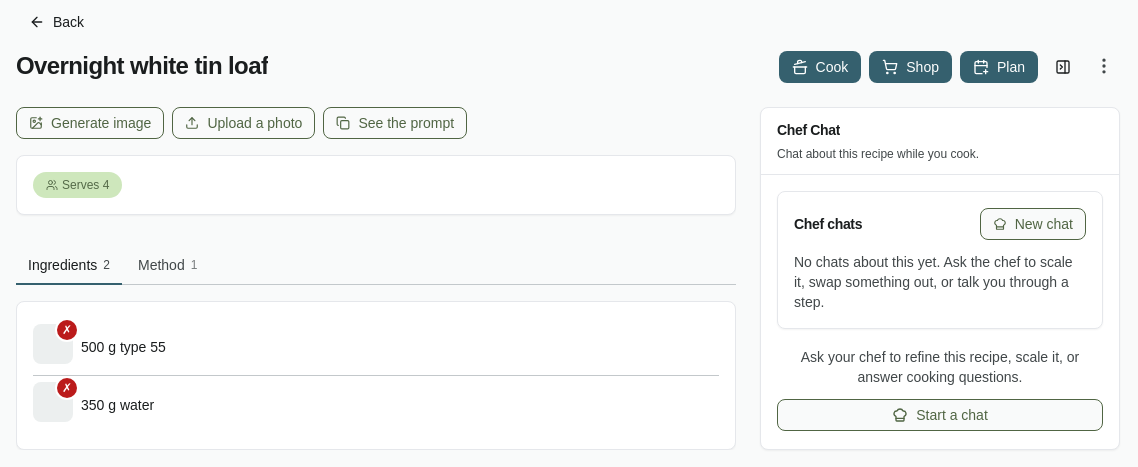
it: RecipeViewPage — an entry point for the first formula › reads the canon name, not just the line
Click the button with test id "recipe-actions-overflow". click: coordinates (1104, 66)
box: [1088,50,1120,82]
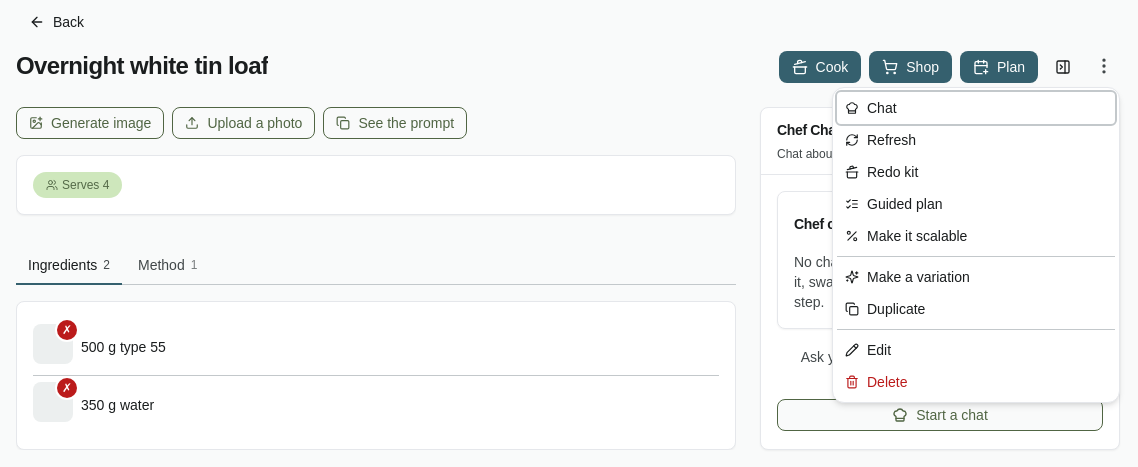
Now the button with test id "recipe-make-scalable-menu-item" is shown, box [837,220,1115,252]
